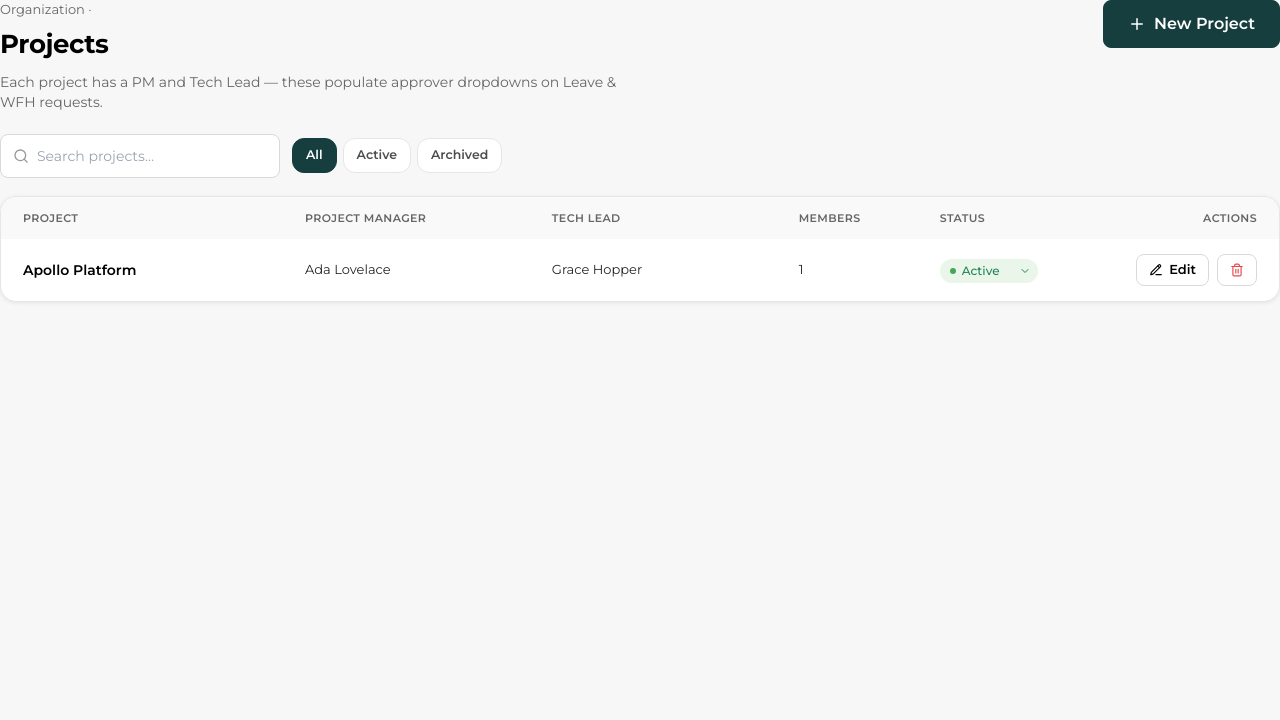
it: deleting an unassigned project succeeds and reloads
Expected: the text "Apollo Platform" is shown, [23, 261, 136, 279]
Click the button named "Delete Apollo Platform": (1237, 270) [1217, 254, 1257, 286]
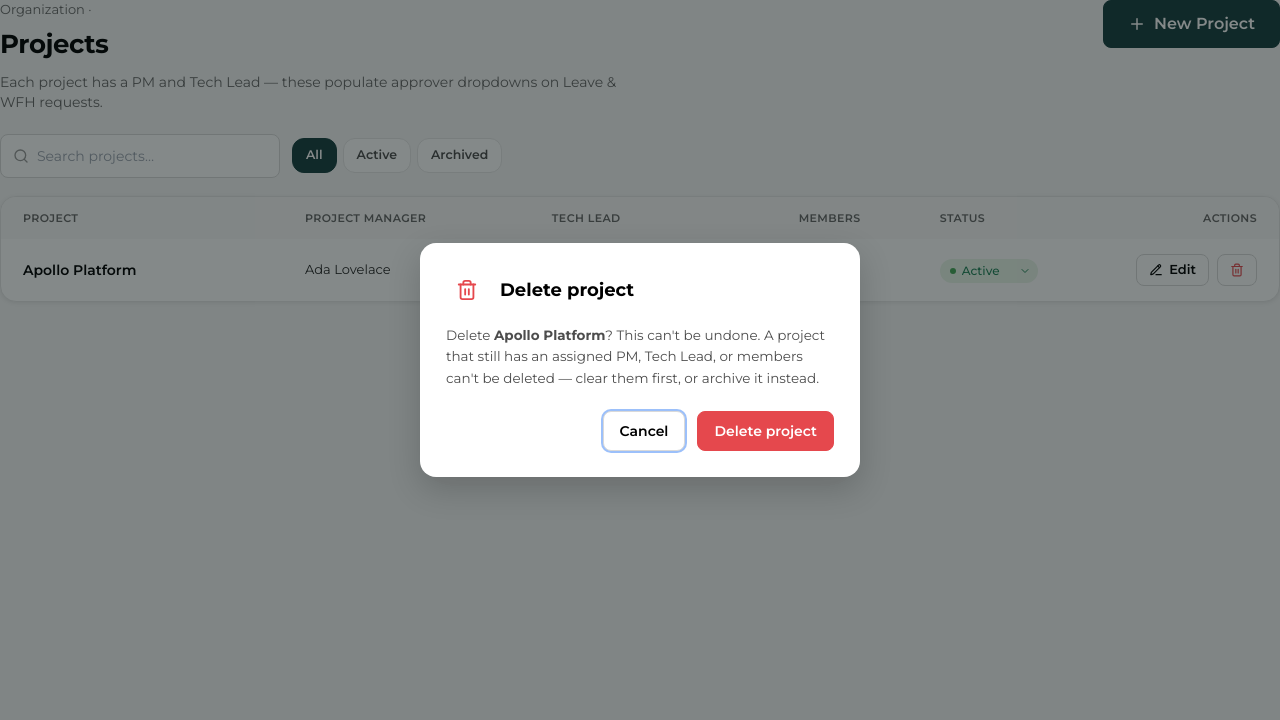
Click the button "Delete project": (766, 431) [697, 411, 834, 451]
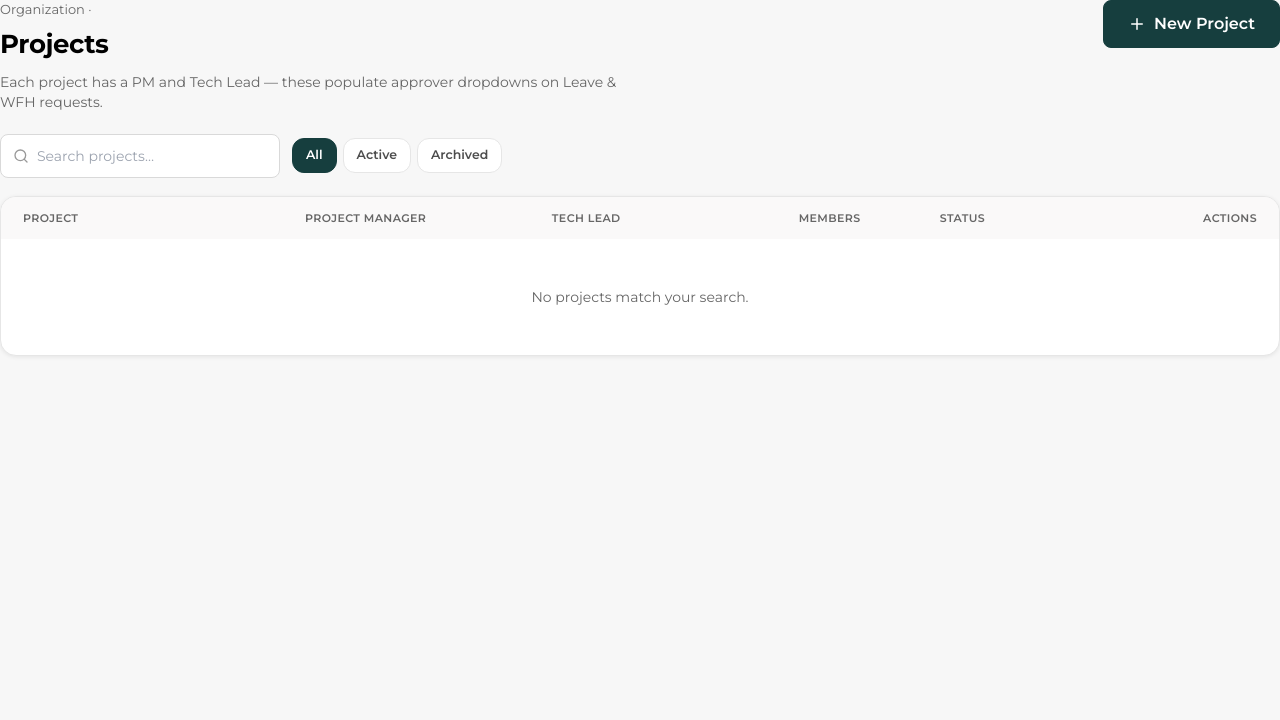
Expected: the text "No projects match your search." is shown, [531, 288, 749, 306]
